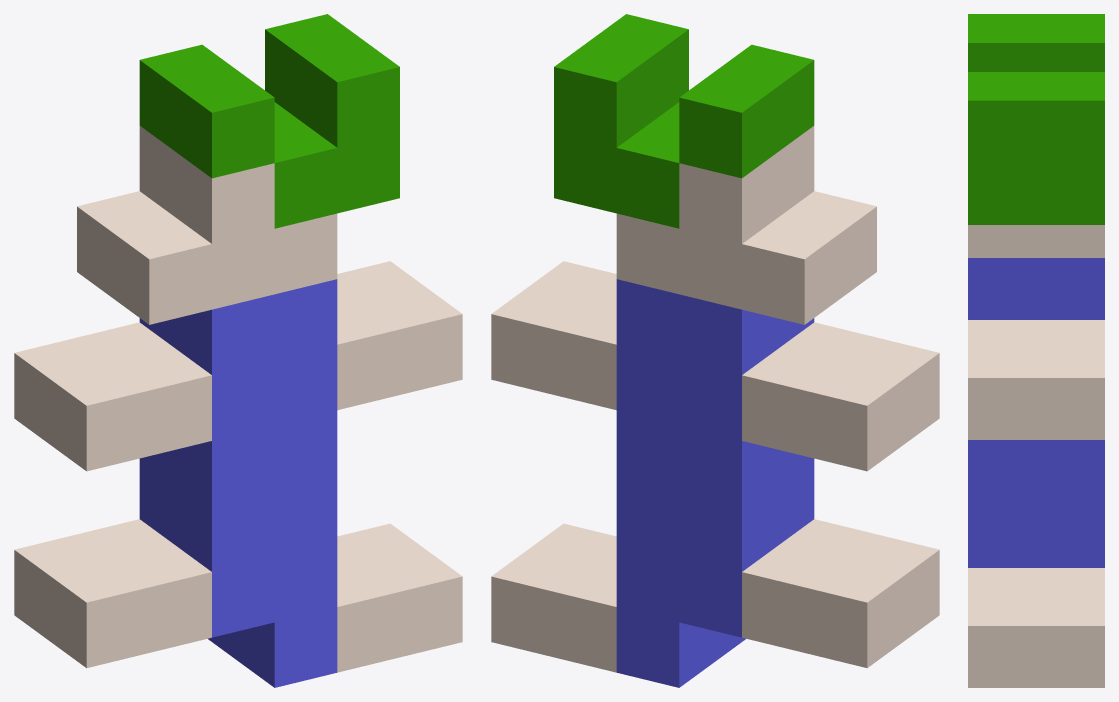
File: lemming_fall_l.glb
3 views of the same model, side by side, from view 1: azimuth 30°, elevation 25°; view 2: azimuth 150°, elevation 25°; view 3: azimuth 270°, elevation 25° (orthographic). The views are drawn at different scales.
Visible parts, largest first — view 1: Cube; view 2: Cube; view 3: Cube.
Part boxes in pixels (x1,y1,x2,y2): Cube: (14,14,462,687); Cube: (491,14,939,687); Cube: (968,14,1104,687).
Size of the model in its own units: 0.6 by 0.9 by 0.2.
